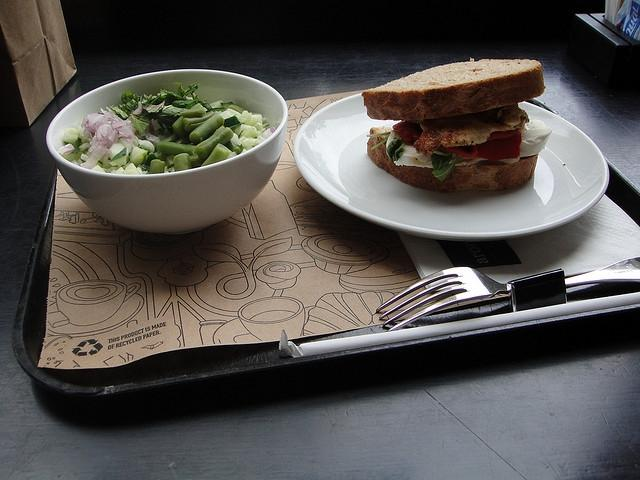green bean: (194, 127, 233, 159), (172, 103, 206, 138), (189, 114, 225, 146), (200, 143, 232, 167), (182, 111, 215, 132), (157, 140, 196, 156), (174, 154, 192, 172), (148, 159, 166, 174), (174, 136, 192, 145), (190, 155, 207, 162), (157, 132, 168, 142)
